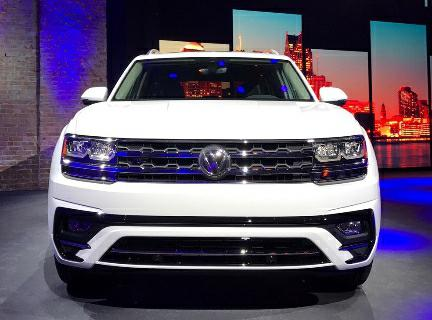大众-Atlas: (45, 47, 388, 291)
